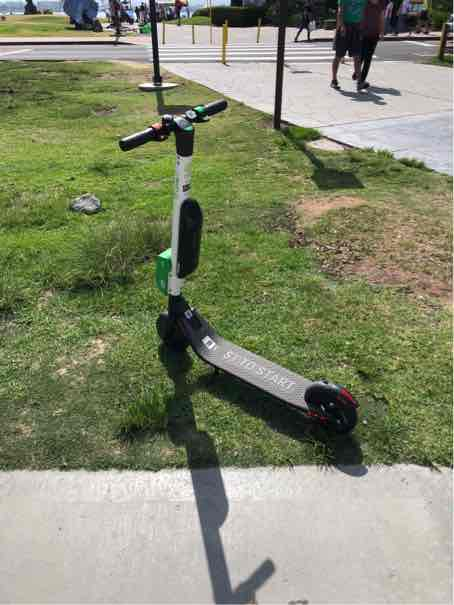scooter: (107, 89, 367, 454)
